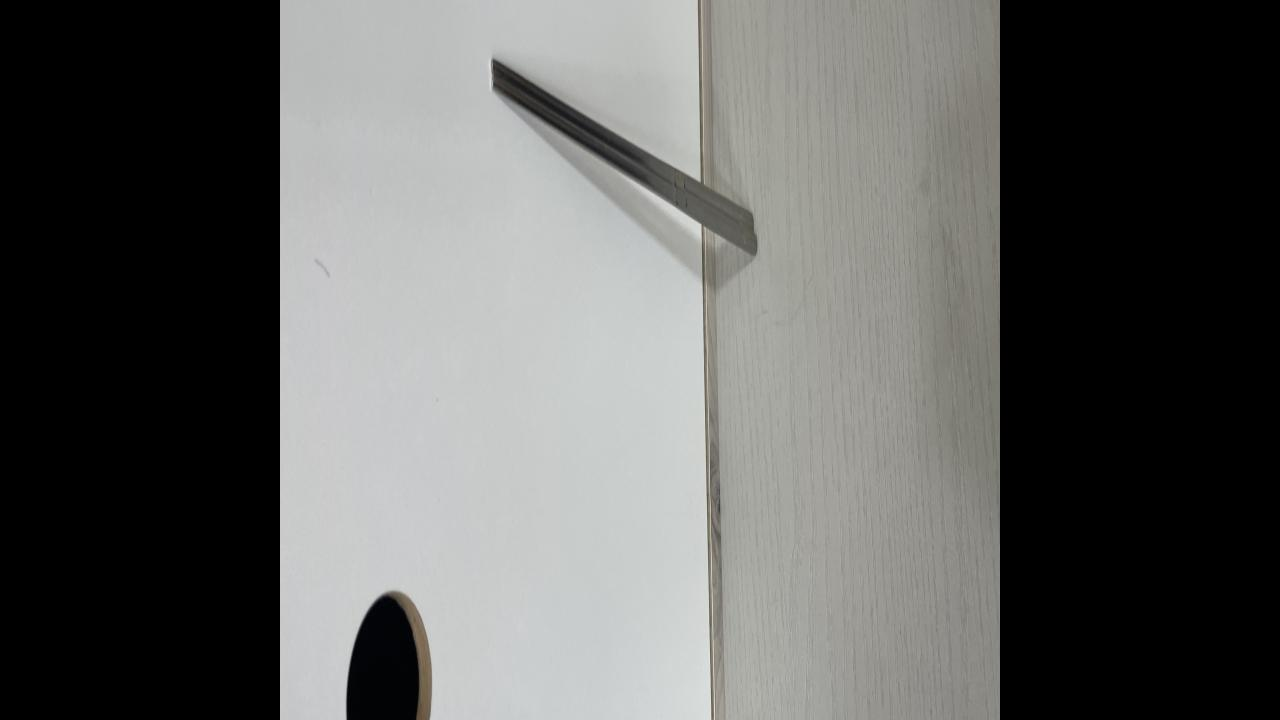chopstick: (492, 52, 756, 257)
